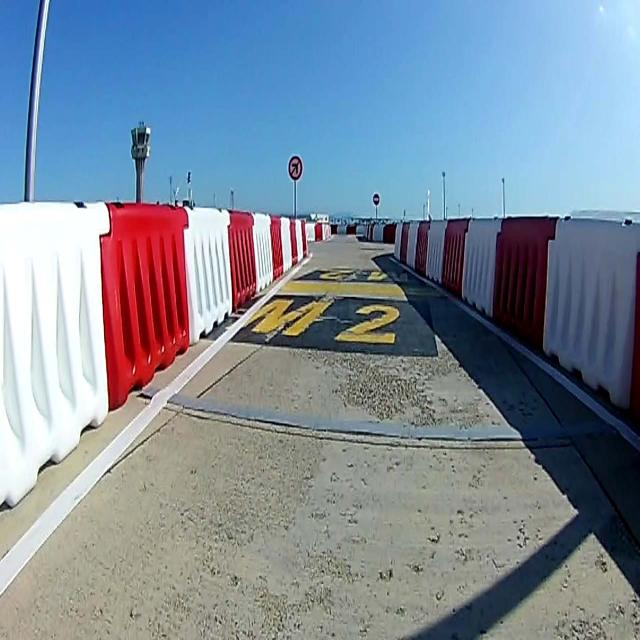soladonulmez: (287, 154, 303, 181)
